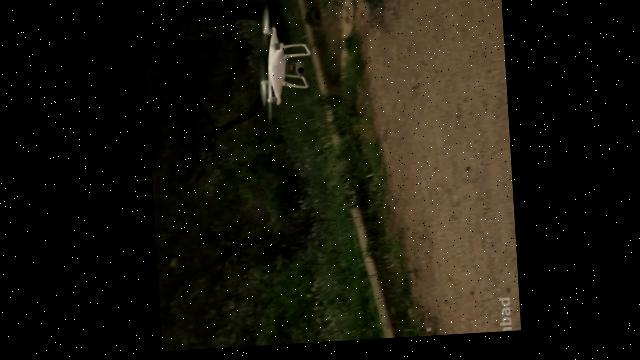drone: (254, 9, 310, 123)
